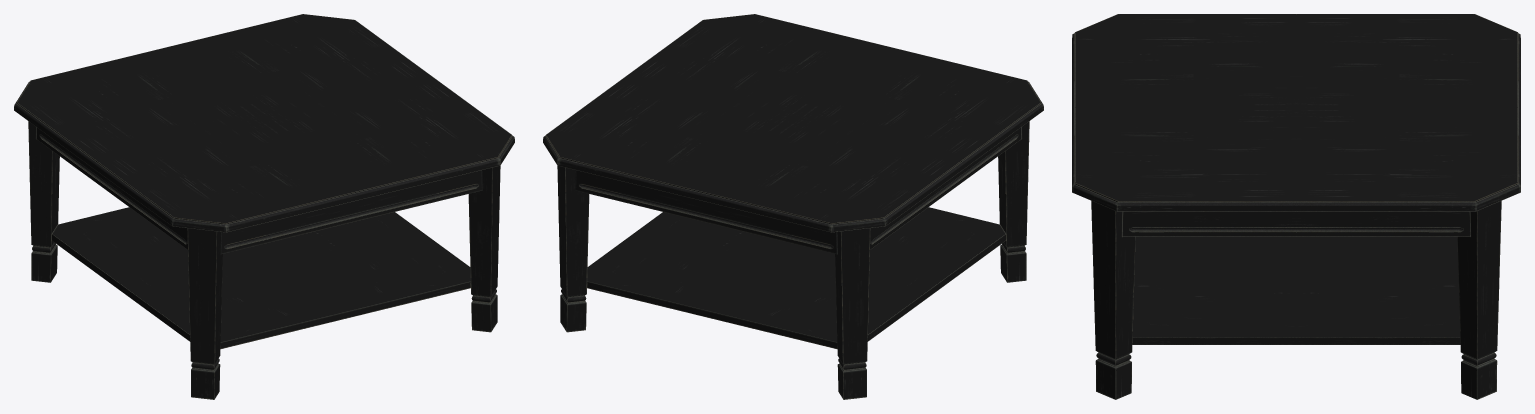
Rendered from example90.gltf.
The picture shows the model from 3 angles, left to right: view 1: azimuth 30°, elevation 25°; view 2: azimuth 150°, elevation 25°; view 3: azimuth 270°, elevation 25°; orthographic projection. The views are drawn at different scales.
Size of the model in its own units: 90 by 45.9 by 90.
Materials: 1 (1 with a texture image).
